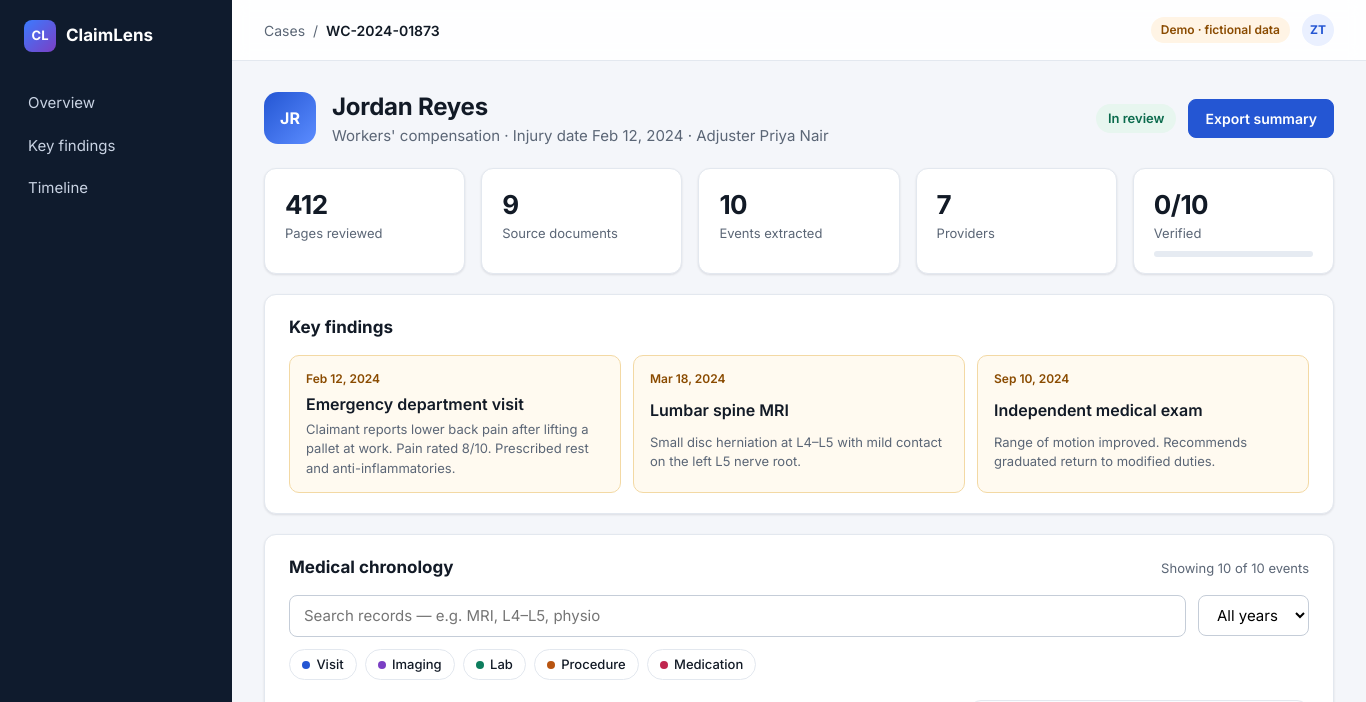
Test: App › filters by event type with the chips
The width and height of the screenshot is (1366, 702).
Expected: the heading "Jordan Reyes" is shown, [332,92,488,121]
What coordinates should you click on to do the following:
click the button "Imaging"
I would click on:
 (410, 665)
Its box is [365,649,455,680].
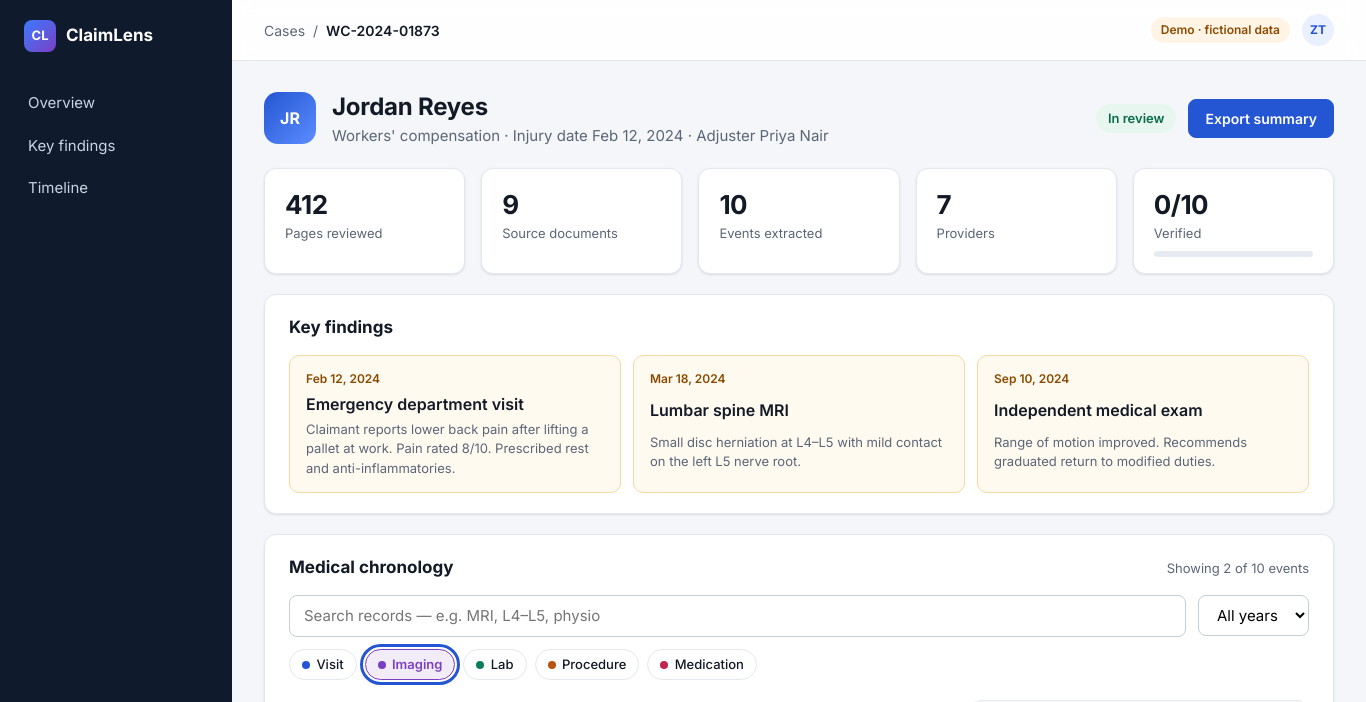
Result: the text "Showing 2 of 10 events" is shown at [1167,559,1309,578]
